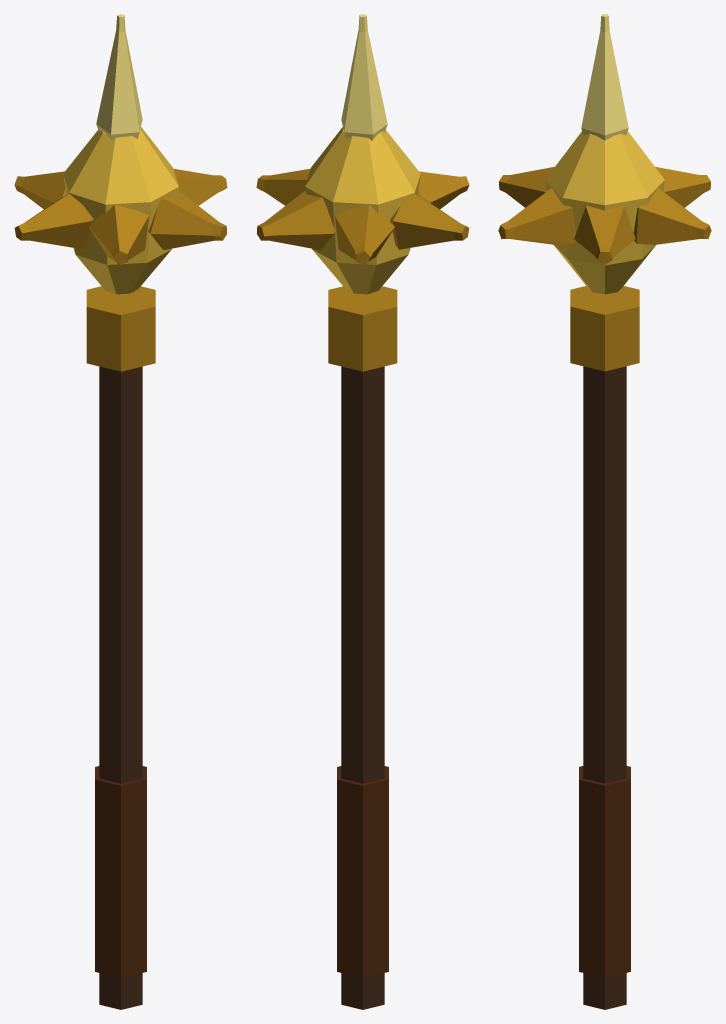
Rendered from wpn_melee_1h_6.glb.
The picture shows the model from 3 angles, left to right: view 1: azimuth 30°, elevation 25°; view 2: azimuth 150°, elevation 25°; view 3: azimuth 270°, elevation 25°; orthographic projection.
Visible parts, largest first — view 1: wpn_melee_1h_6; view 2: wpn_melee_1h_6; view 3: wpn_melee_1h_6.
Part boxes in pixels (x1,y1,x2,y2): wpn_melee_1h_6: (14, 14, 227, 1009); wpn_melee_1h_6: (256, 14, 469, 1009); wpn_melee_1h_6: (498, 14, 711, 1009).
Bounding box in the file's own units: 0.19 × 0.87 × 0.1709.
